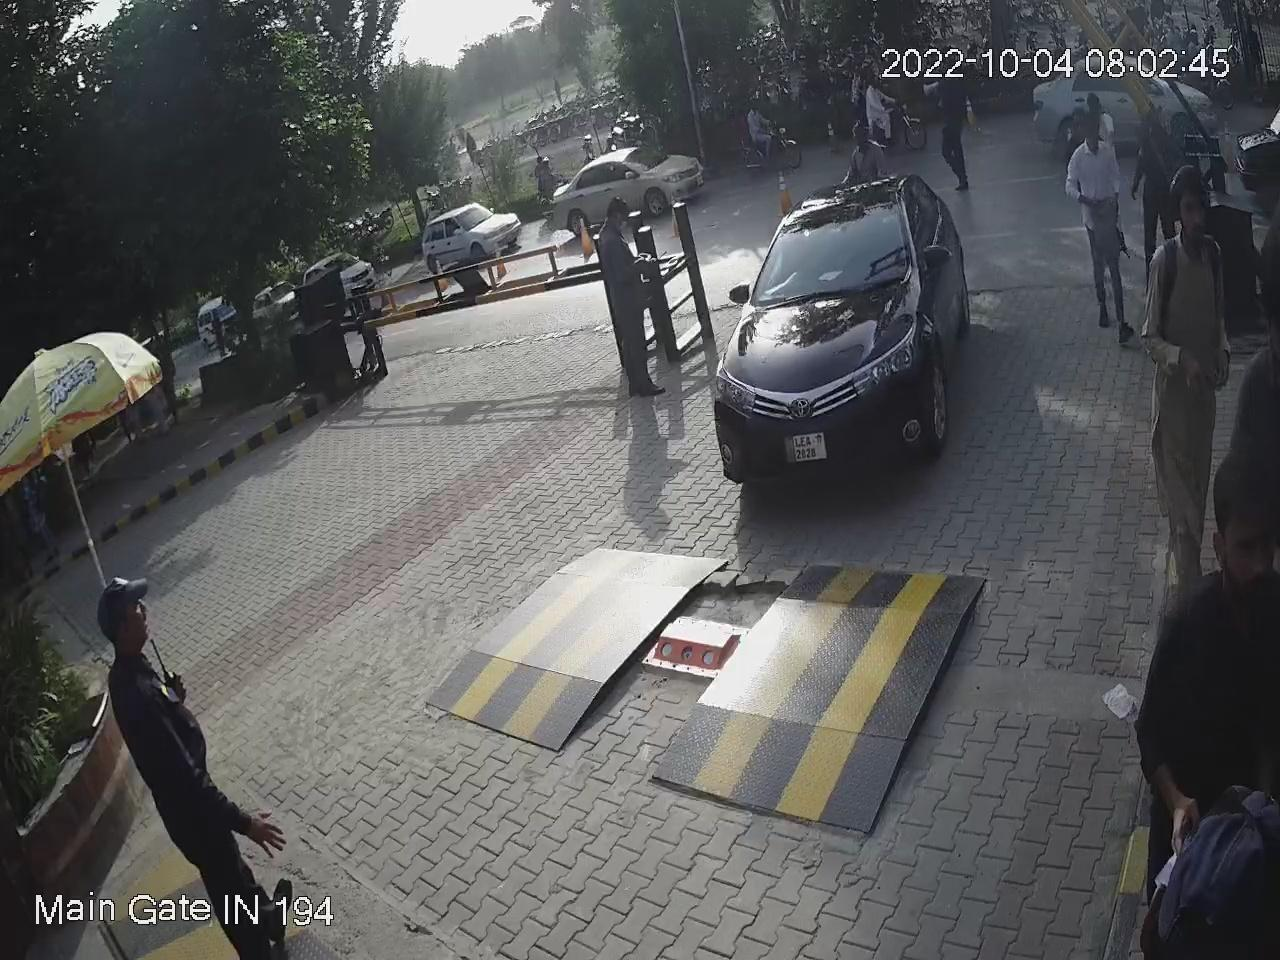windshield: (743, 188, 913, 310)
